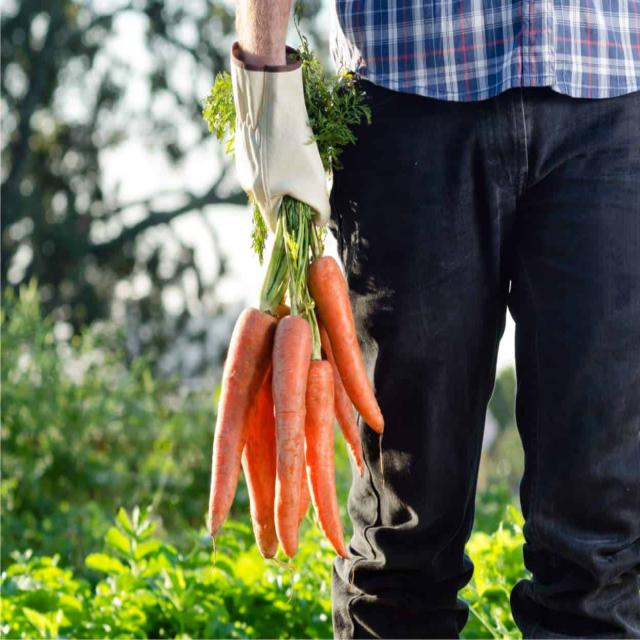Carrot: (276, 317, 310, 570), (310, 364, 348, 553)
